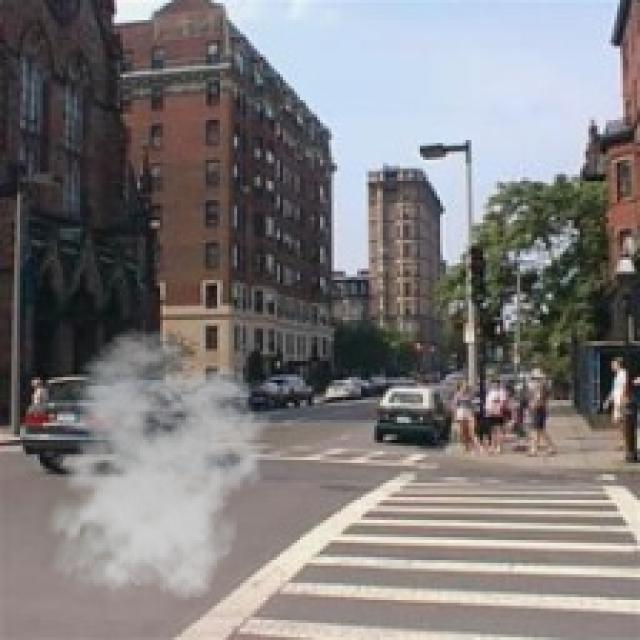smoke: (35, 328, 272, 608)
